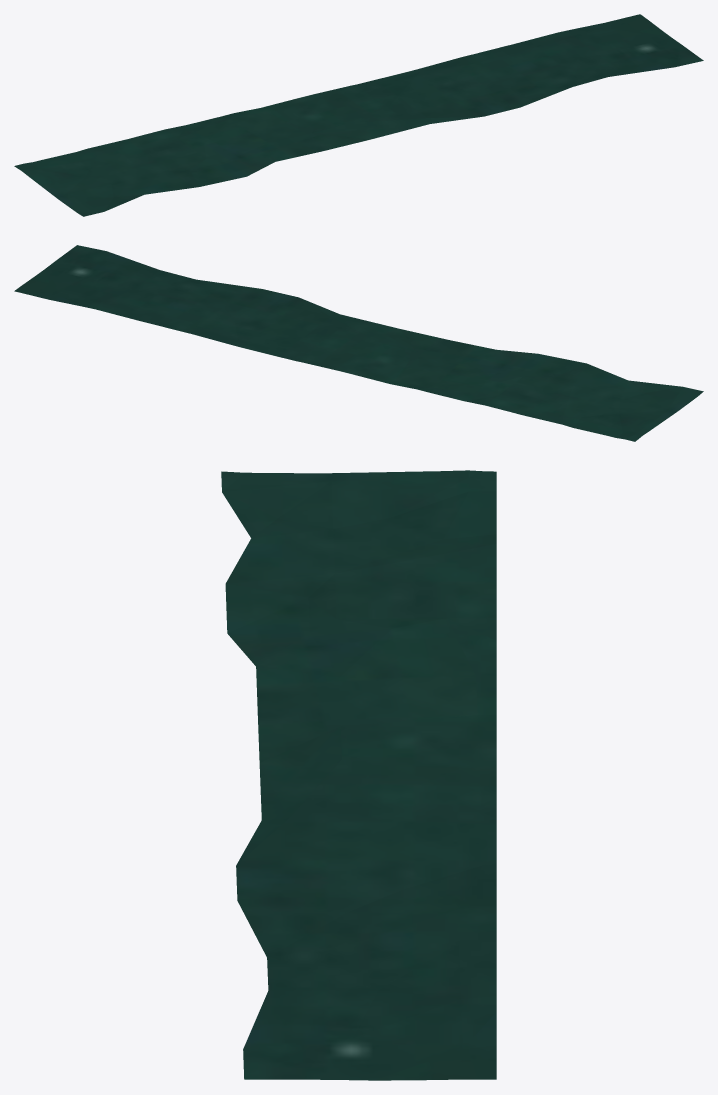
3 renders of one model, top to bottom at view 1: azimuth 30°, elevation 25°; view 2: azimuth 150°, elevation 25°; view 3: azimuth 270°, elevation 25°, orthographic. The views are drawn at different scales.
Bounding box in the file's own units: 52.22 × 0.2667 × 10.03.
1 material, 1 textured.
